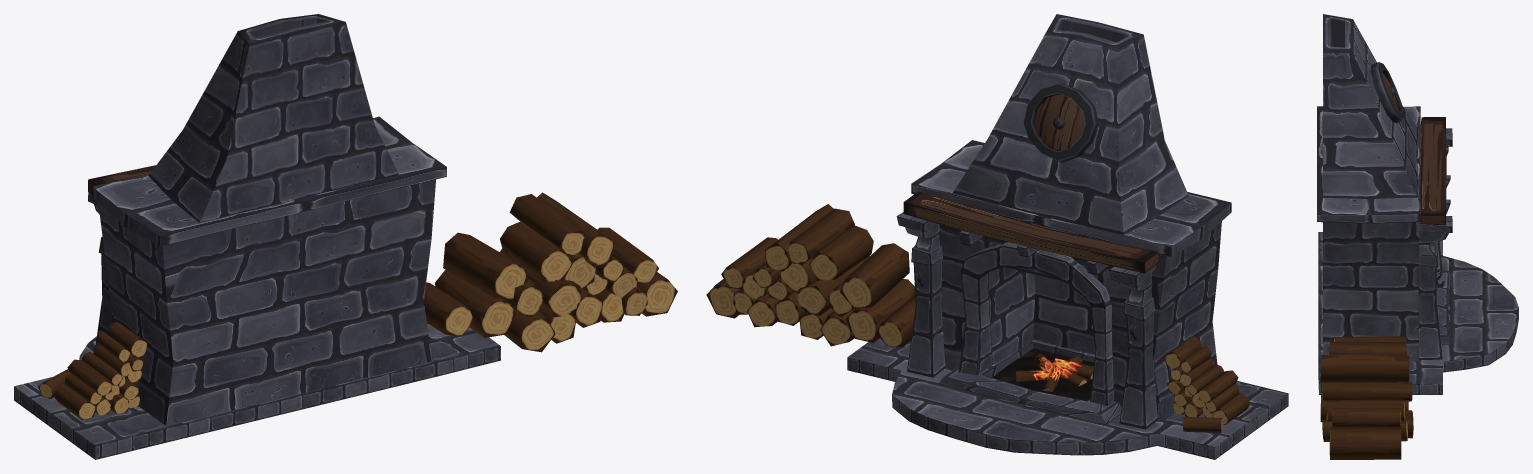
Rendered from FirePlace.fbx.
3 views of the same model, side by side, from view 1: azimuth 30°, elevation 25°; view 2: azimuth 150°, elevation 25°; view 3: azimuth 270°, elevation 25° (orthographic). The views are drawn at different scales.
Parts seen in each view (by area): view 1: SM_PROP_fireplace_dungeon.001; view 2: SM_PROP_fireplace_dungeon.001; view 3: SM_PROP_fireplace_dungeon.001.
Part boxes in pixels (x1,y1,x2,y2): SM_PROP_fireplace_dungeon.001: (14, 14, 677, 459); SM_PROP_fireplace_dungeon.001: (706, 14, 1288, 459); SM_PROP_fireplace_dungeon.001: (1317, 14, 1518, 459).
Bounding box in the file's own units: 6.44 × 3.95 × 2.49.
Materials: 3 (3 with a texture image).
